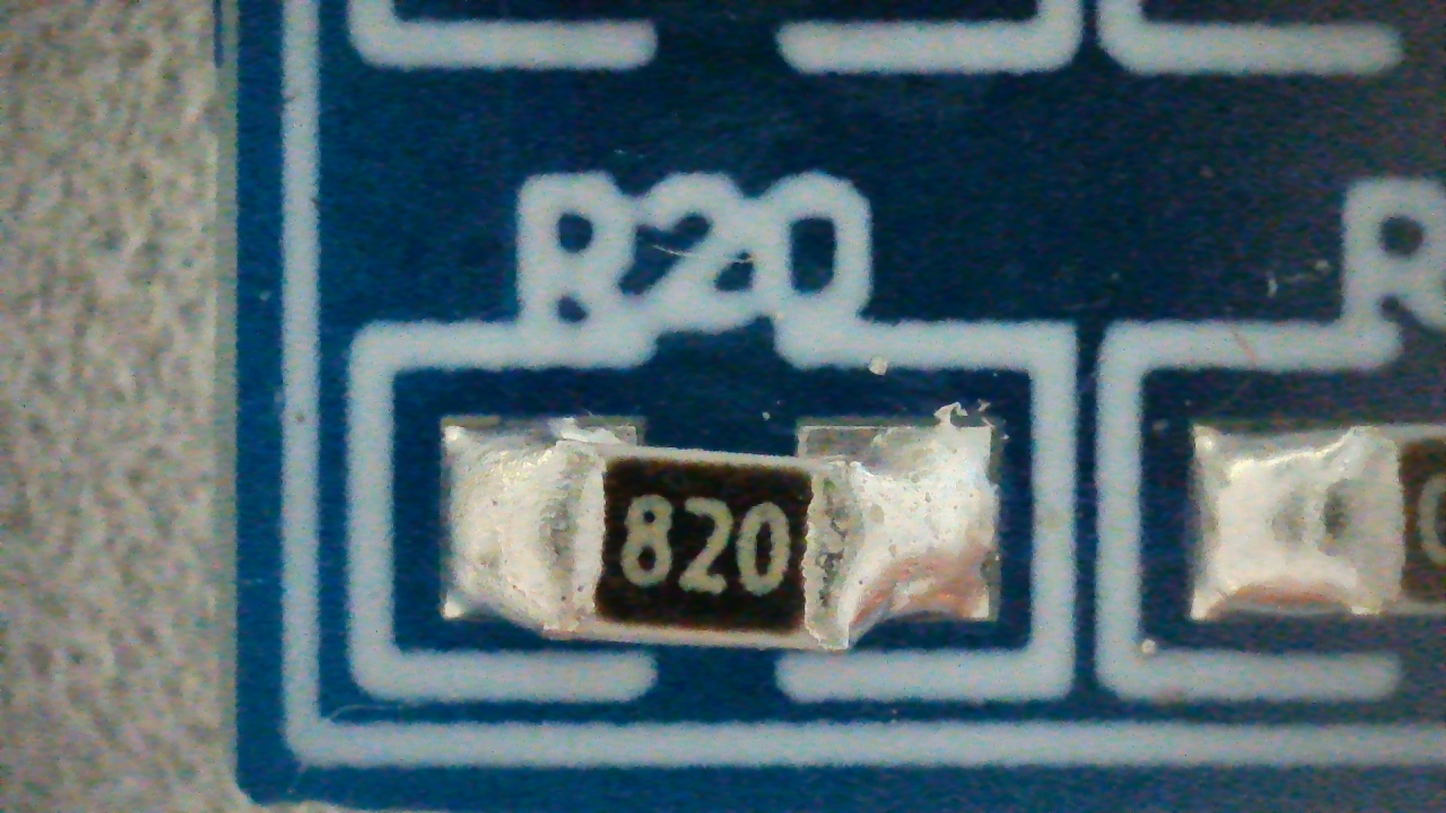NG: (441, 401, 998, 650)
